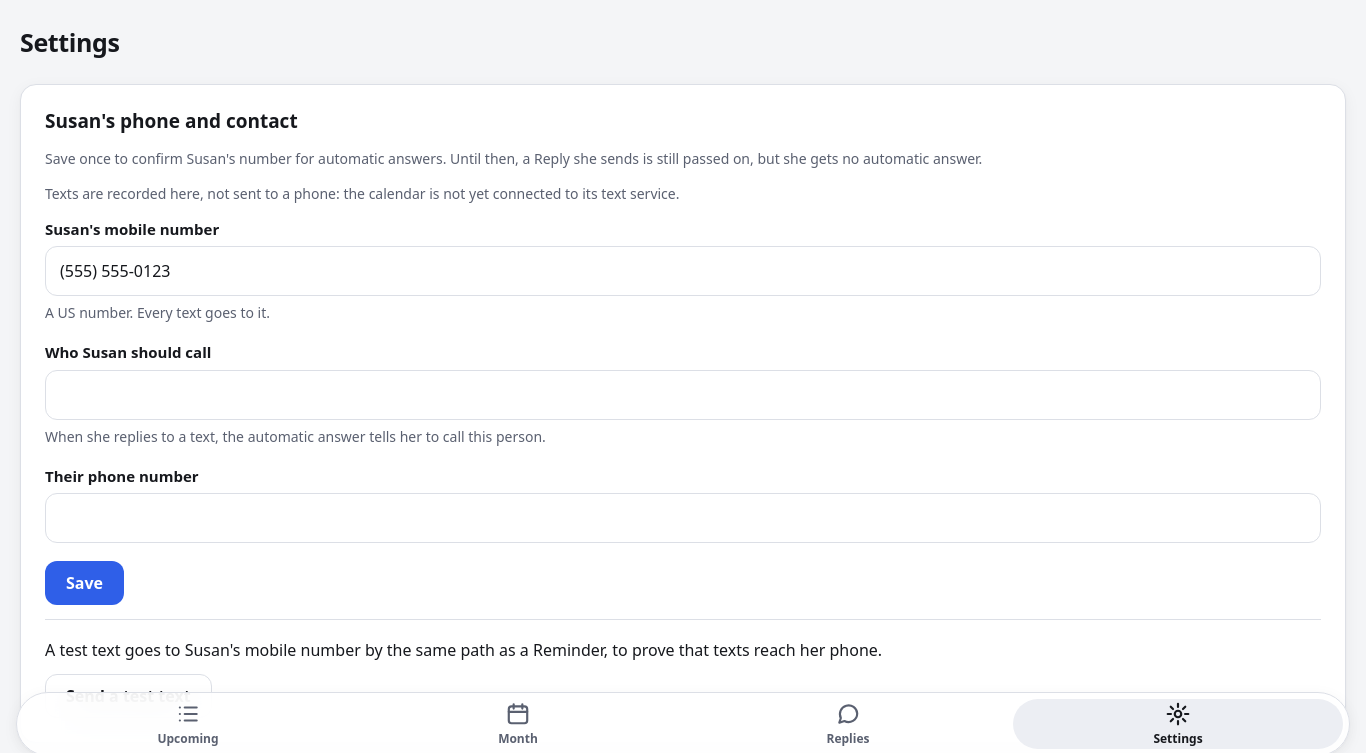
Test: the Susan's phone and contact section of Settings › confirms a number saved before Replies when Settings are saved as they are
Check: the text "Save once to confirm Susan's number for automatic answers." is shown, box [45, 149, 982, 168]
Step 1. Click the button "Save" → (84, 583), box [45, 561, 124, 605]
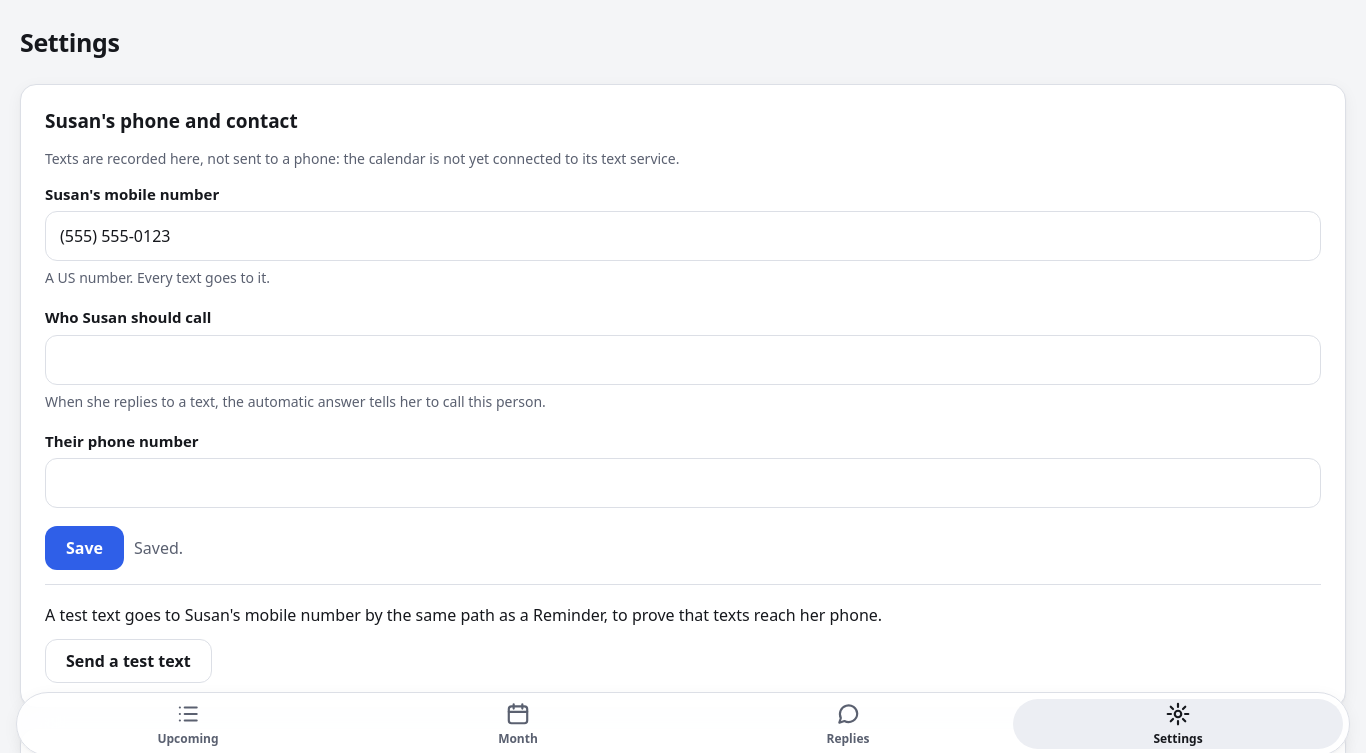
Check: the message reads "Saved.", box [134, 537, 183, 559]
